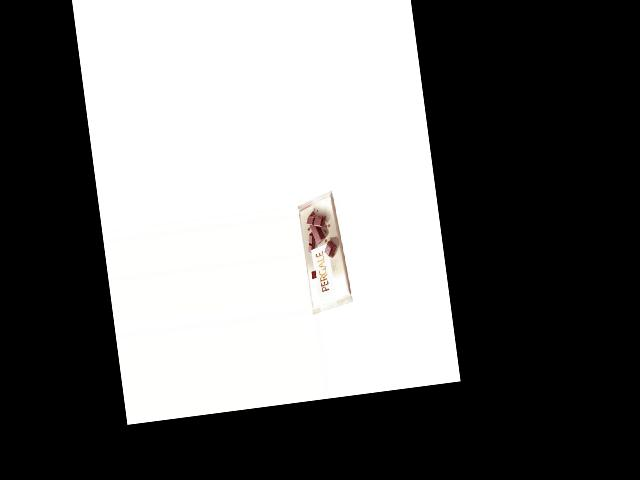chocolate: (296, 187, 352, 316)
